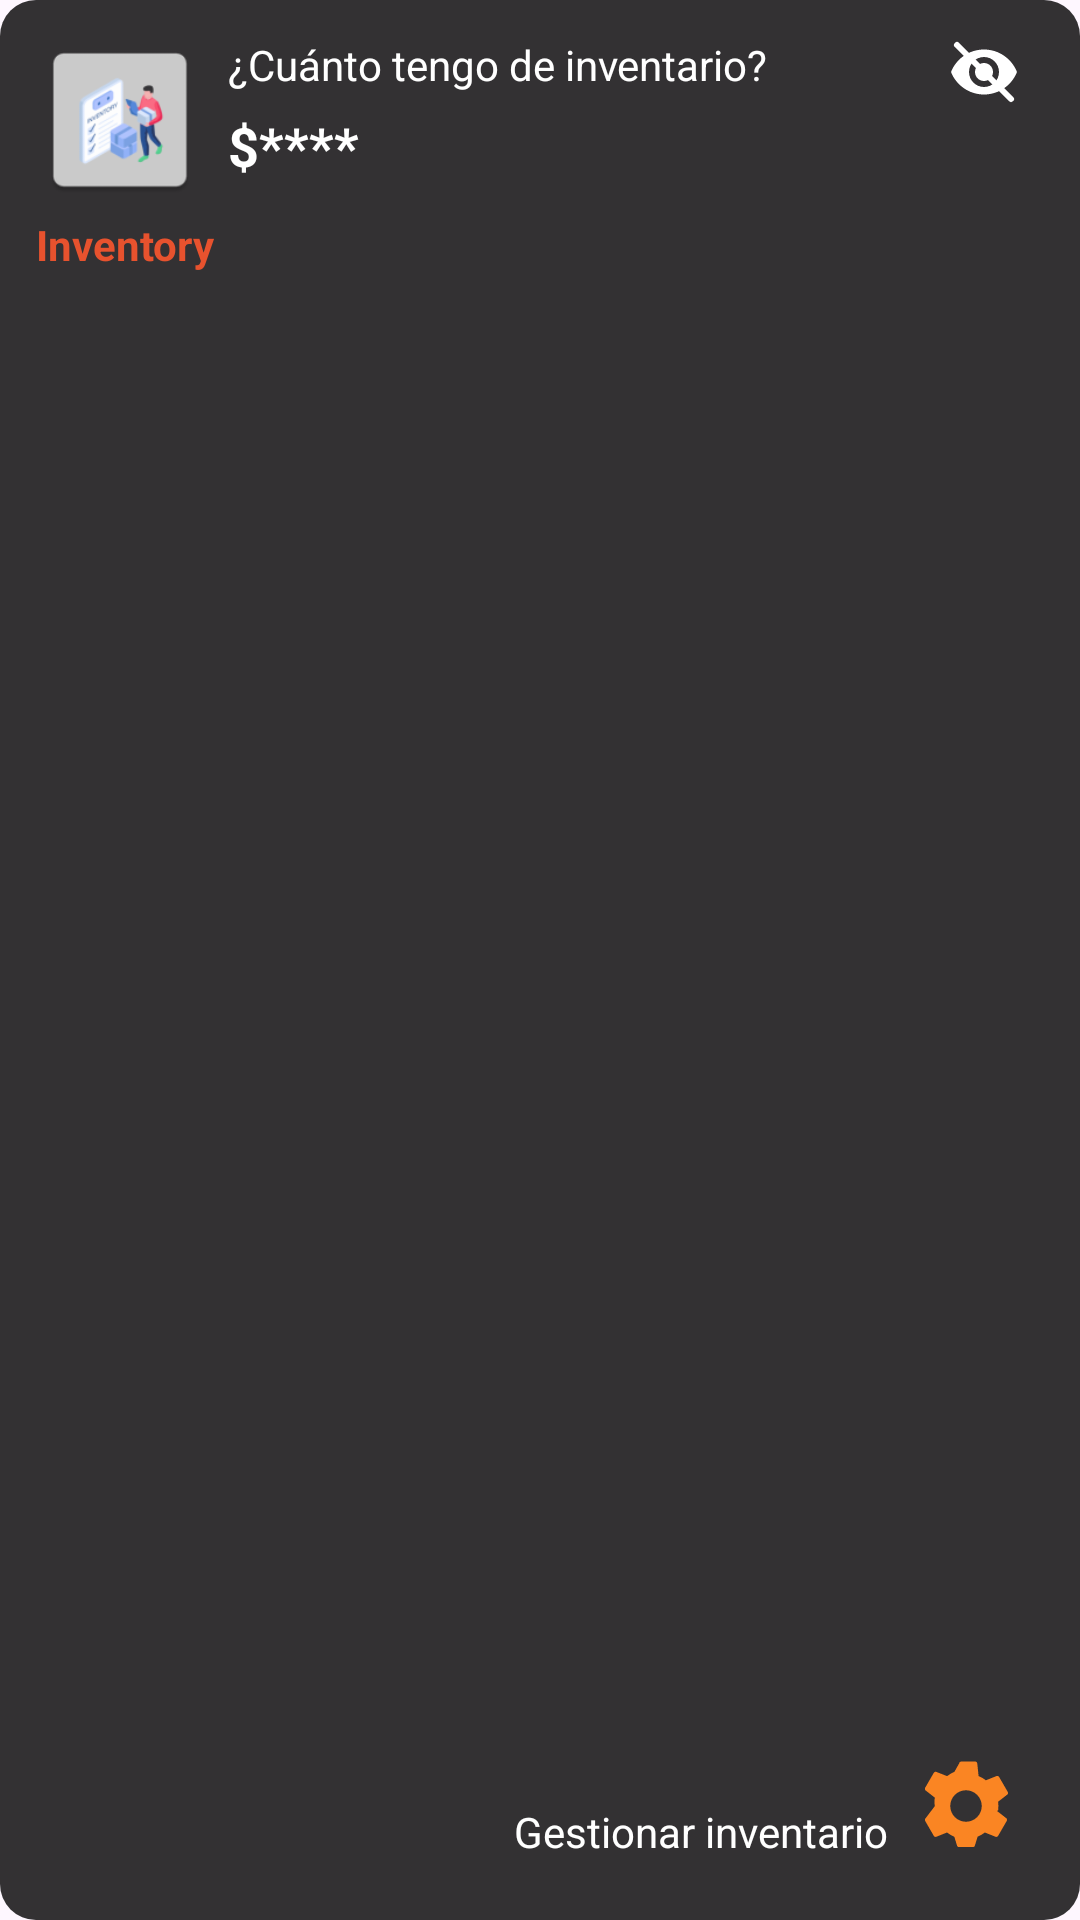

Screen size 1080px×1920px. Icon name, then its box in pixels as (x1=x1, y1=y1, x2=x2, y2=y2):
eye closed: (x1=951, y1=41, x2=1017, y2=102)
manage: (x1=925, y1=1761, x2=1008, y2=1847)
